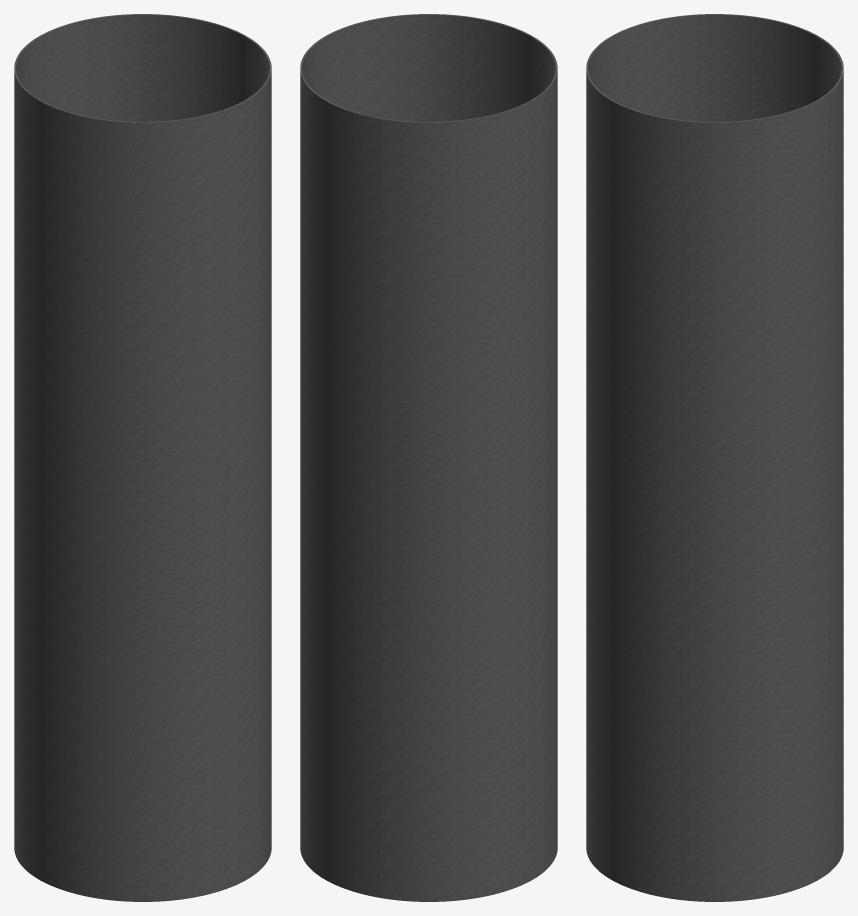
Rendered from границы.glb.
The picture shows the model from 3 angles, left to right: view 1: azimuth 30°, elevation 25°; view 2: azimuth 150°, elevation 25°; view 3: azimuth 270°, elevation 25°; orthographic projection.
Parts seen in each view (by area): view 1: Cylinder.001; view 2: Cylinder.001; view 3: Cylinder.001.
Part boxes in pixels (bbox=[...]): Cylinder.001: bbox=[14, 14, 271, 901]; Cylinder.001: bbox=[300, 14, 557, 901]; Cylinder.001: bbox=[586, 14, 843, 901].
Bounding box in the file's own units: 311 × 1040 × 311.
1 material, 1 textured.
